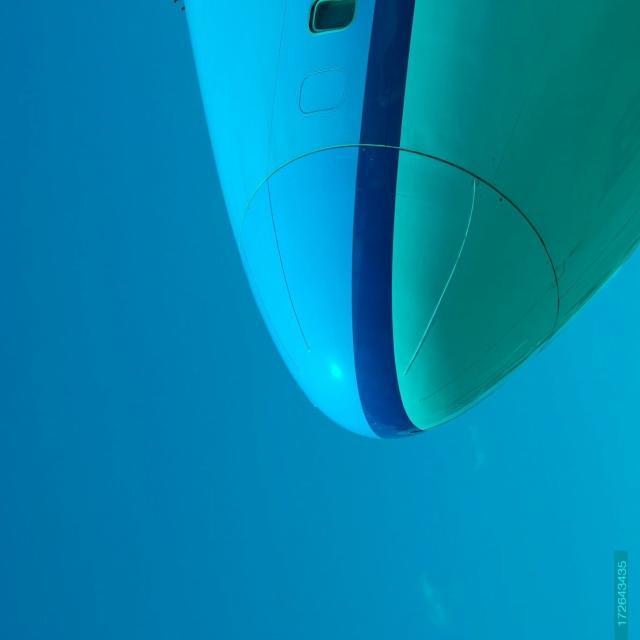crack: (559, 261, 569, 286)
